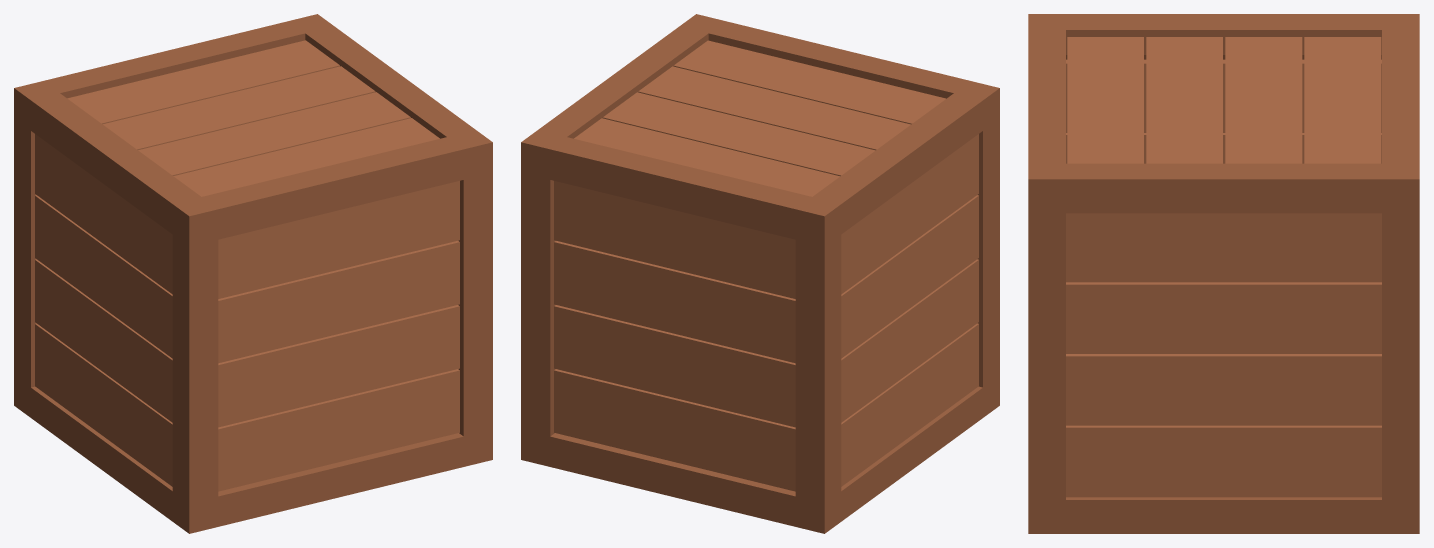
File: wooden_crate.glb
3 renders of one model, left to right at view 1: azimuth 30°, elevation 25°; view 2: azimuth 150°, elevation 25°; view 3: azimuth 270°, elevation 25°, orthographic. The views are drawn at different scales.
Visible parts, largest first — view 1: wooden_crate; view 2: wooden_crate; view 3: wooden_crate.
Part boxes in pixels (x1=…): wooden_crate: x1=14, y1=14, x2=492, y2=533; wooden_crate: x1=521, y1=14, x2=999, y2=533; wooden_crate: x1=1028, y1=14, x2=1419, y2=533.
Bounding box in the file's own units: 0.3917 × 0.3917 × 0.3917.
Materials: 1 (1 with a texture image).
